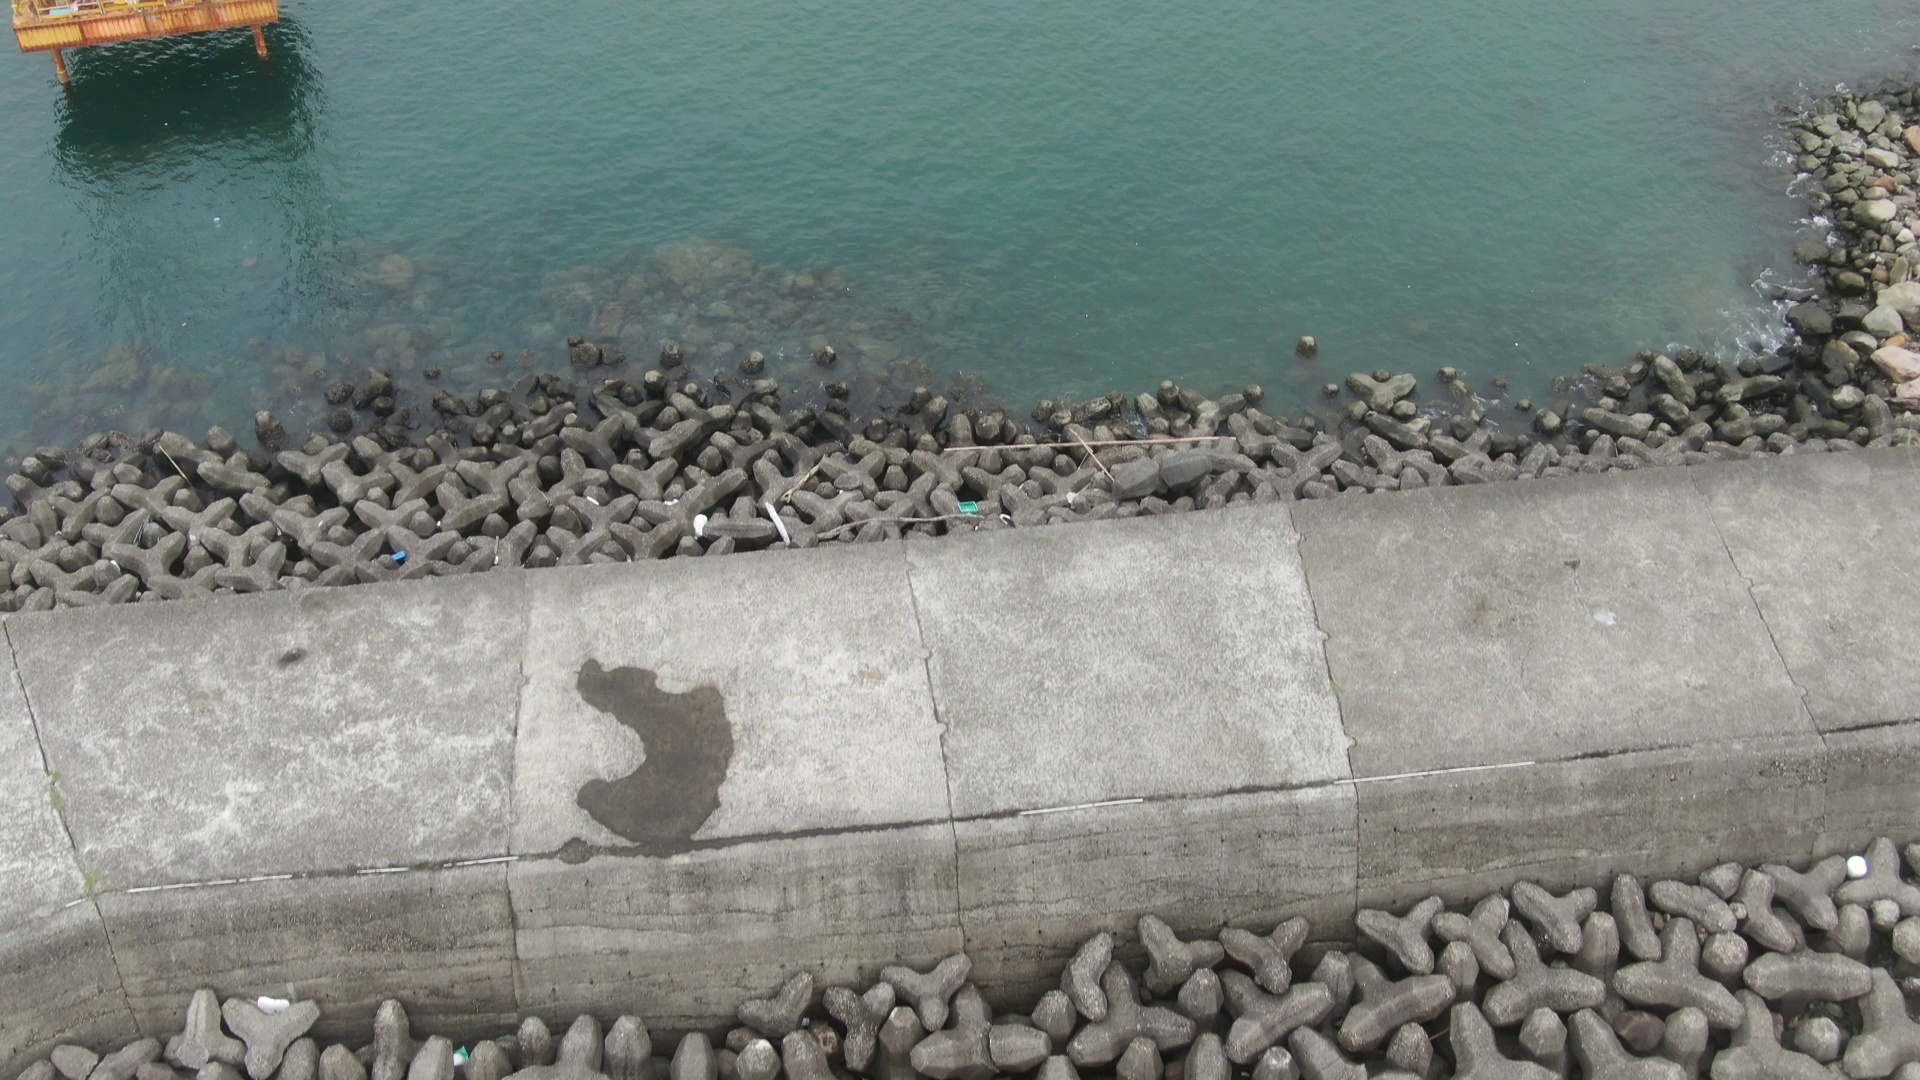garbage: (427, 1042, 493, 1073), (1836, 847, 1880, 890), (952, 485, 982, 520), (384, 545, 419, 563)
